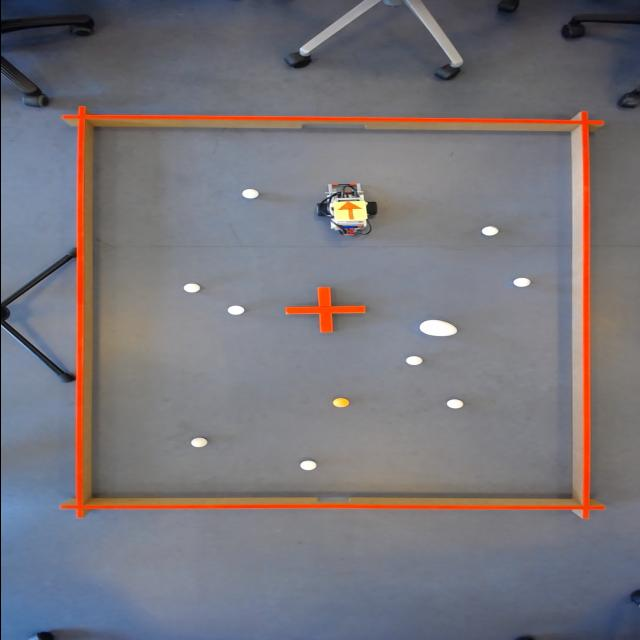cross: (282, 285, 367, 334)
egg: (416, 318, 461, 338)
orange_ball: (328, 396, 352, 408)
robot: (326, 200, 368, 222)
white_ball: (476, 224, 502, 237), (178, 282, 202, 296), (186, 436, 210, 450), (296, 458, 320, 472), (236, 188, 262, 200), (509, 276, 533, 289), (442, 398, 464, 411), (223, 304, 246, 316), (400, 356, 426, 366)
